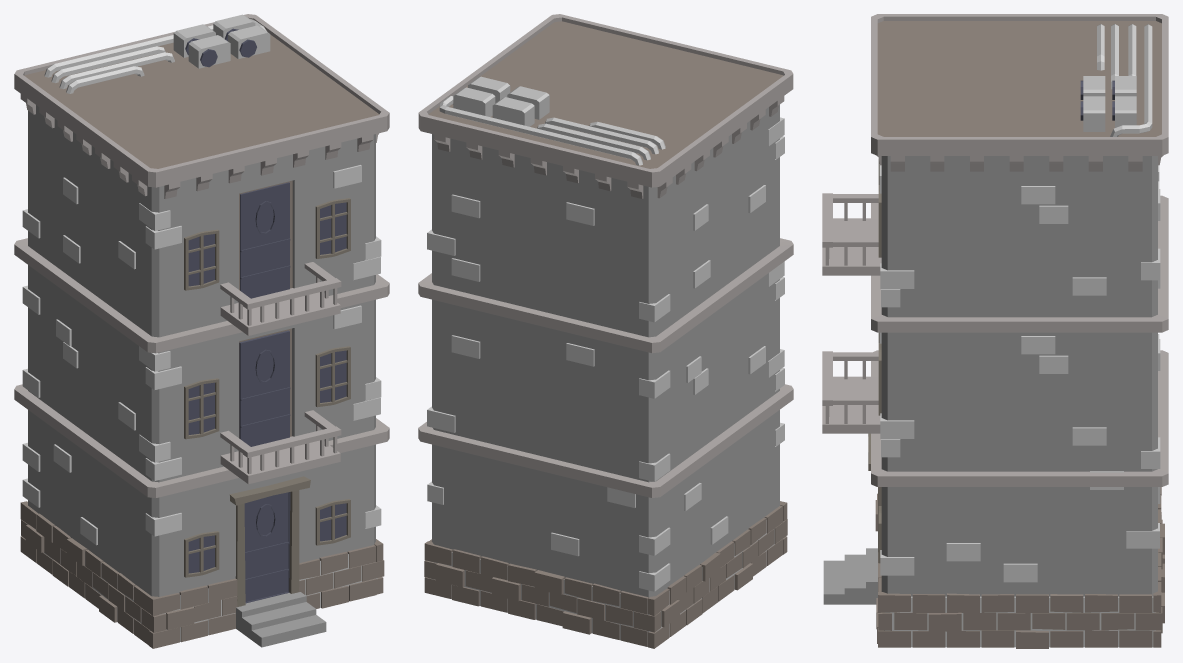
Rendered from 3StoryB.glb.
3 renders of one model, left to right at view 1: azimuth 30°, elevation 25°; view 2: azimuth 150°, elevation 25°; view 3: azimuth 270°, elevation 25°, orthographic. The views are drawn at different scales.
Visible parts, largest first — view 1: 3Story_Balcony; view 2: 3Story_Balcony; view 3: 3Story_Balcony.
Part boxes in pixels (x1,y1,x2,y2): 3Story_Balcony: [14, 14, 389, 648]; 3Story_Balcony: [418, 14, 793, 648]; 3Story_Balcony: [822, 14, 1168, 648].
Bounding box in the file's own units: 2.16 × 4.21 × 2.51.
1 material, 1 textured.
